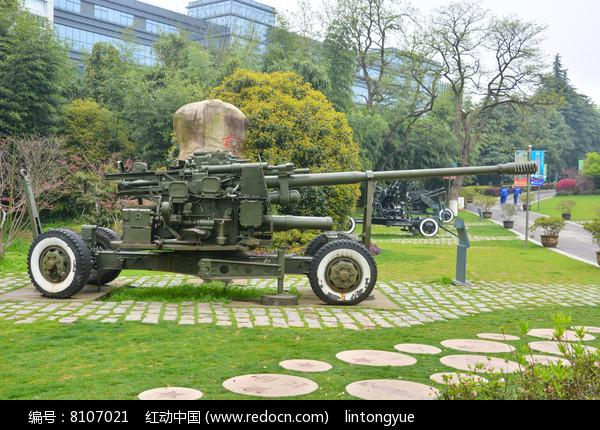MIL_SPG: (21, 150, 537, 305)
